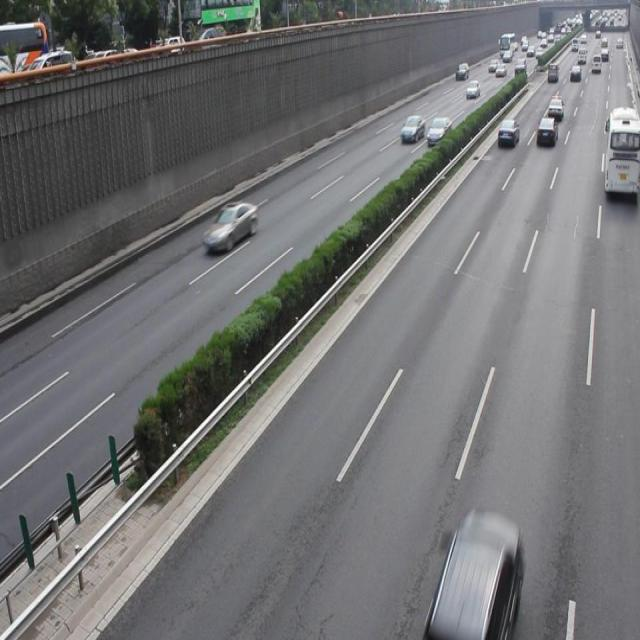car: (425, 505, 521, 640), (202, 201, 256, 252)
van: (604, 109, 640, 193)
